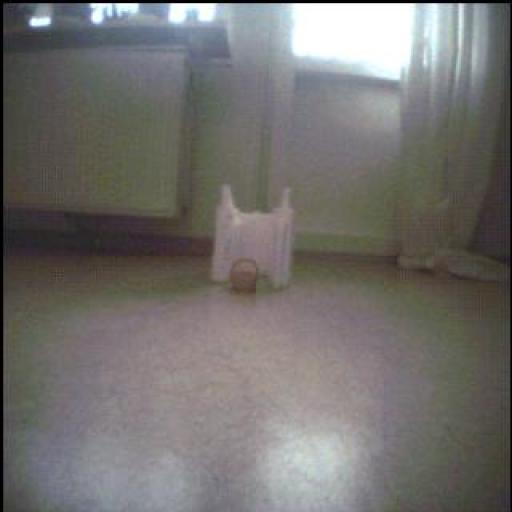Basket: (232, 259, 261, 294)
